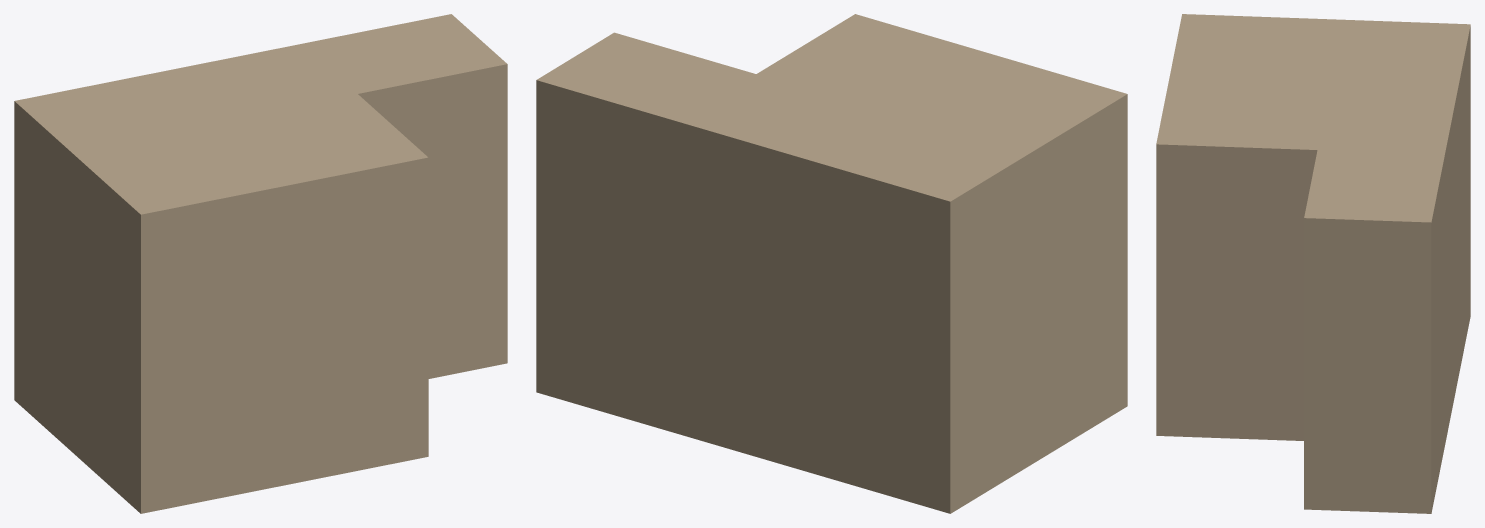
The model's file is bld_100469427.dae.
The picture shows the model from 3 angles, left to right: view 1: azimuth 30°, elevation 25°; view 2: azimuth 150°, elevation 25°; view 3: azimuth 270°, elevation 25°; orthographic projection. The views are drawn at different scales.
Parts seen in each view (by area): view 1: bld_100469427; view 2: bld_100469427; view 3: bld_100469427.
Boxes of the visible parts, box(x1,y1,x2,y2) form: bld_100469427: box(14, 14, 507, 513); bld_100469427: box(536, 14, 1127, 513); bld_100469427: box(1156, 14, 1470, 513).
Bounding box in the file's own units: 12.27 × 7.82 × 8.
